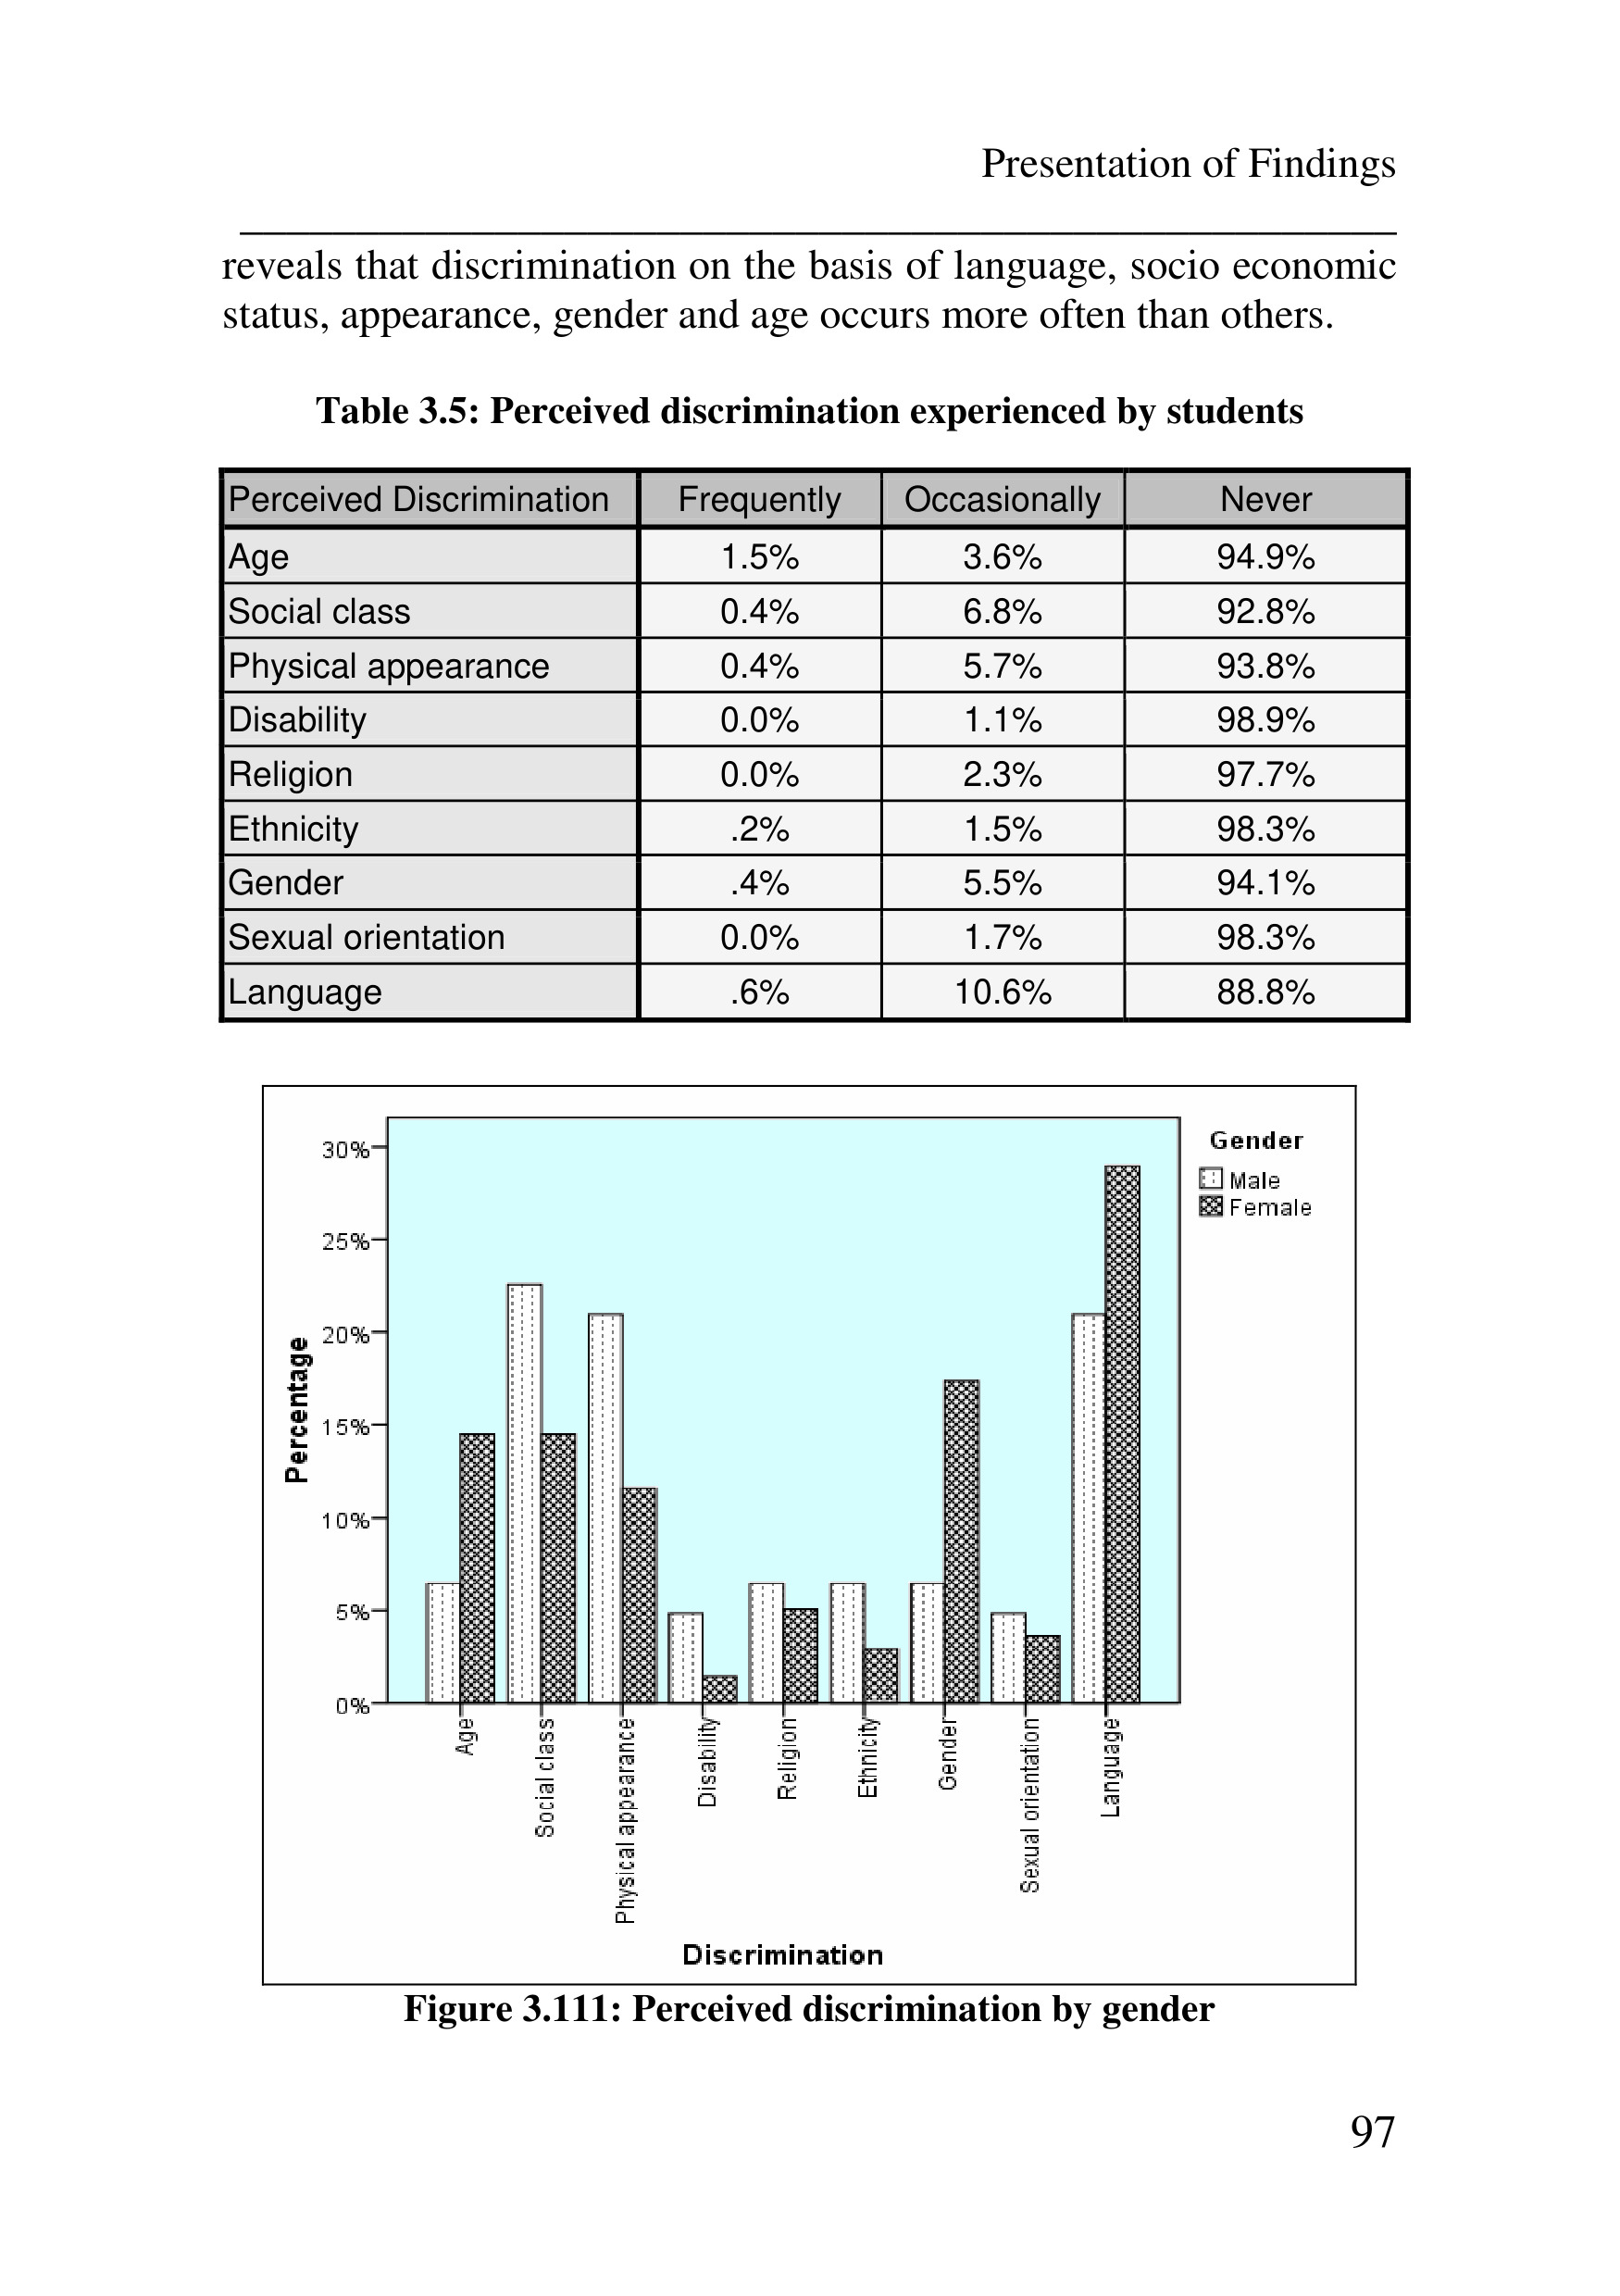table: (226, 473, 1315, 1013)
